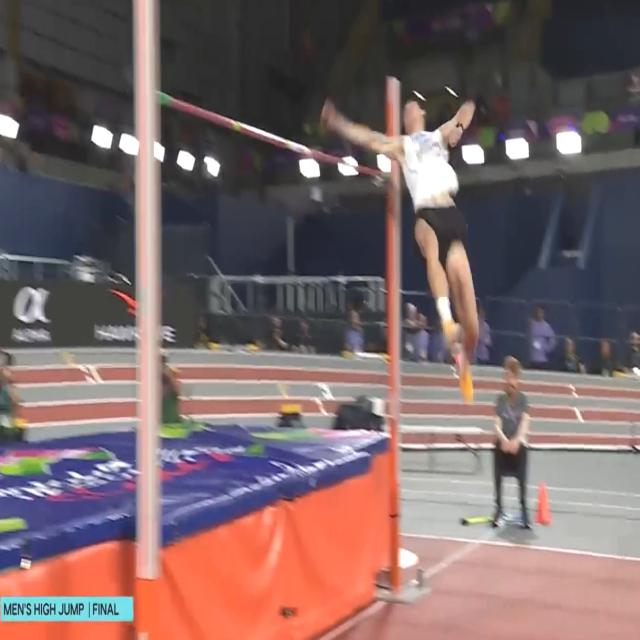jump: (318, 102, 478, 402)
